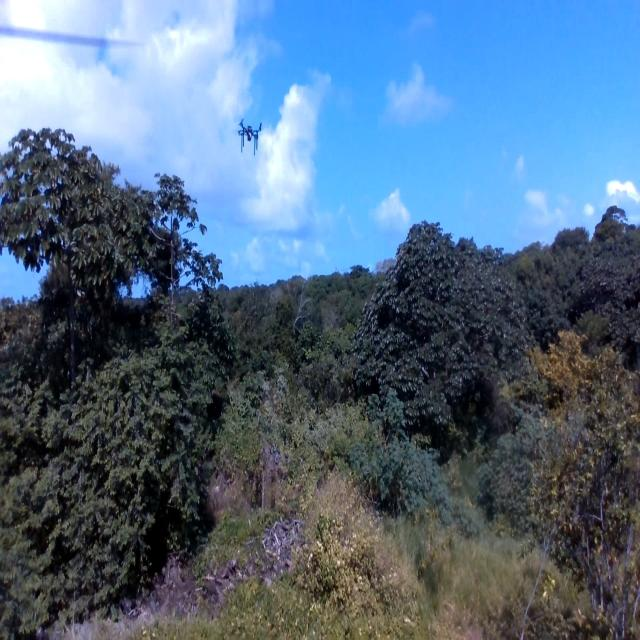-uav-: (233, 111, 264, 163)
